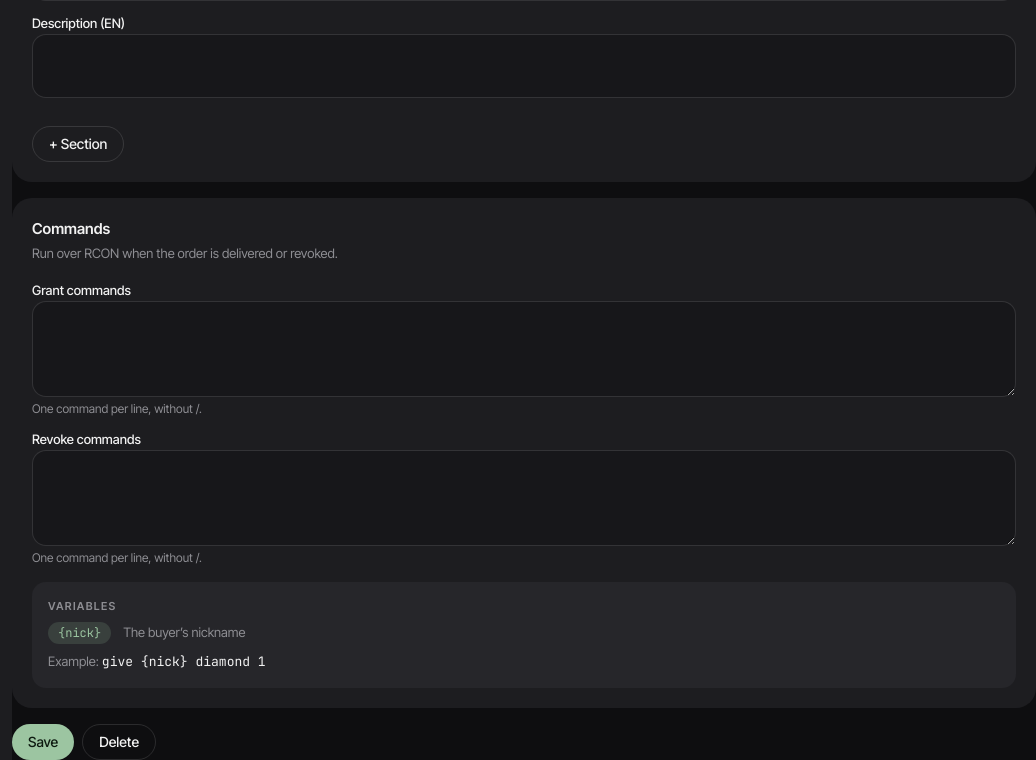
Test: ProductEditor › inserts into revoke when revoke was focused last
(page scrolled)
In the text box labelled "Revoke commands": [524, 498] box [32,450,1016,546], type "lp user  parent remove vip"
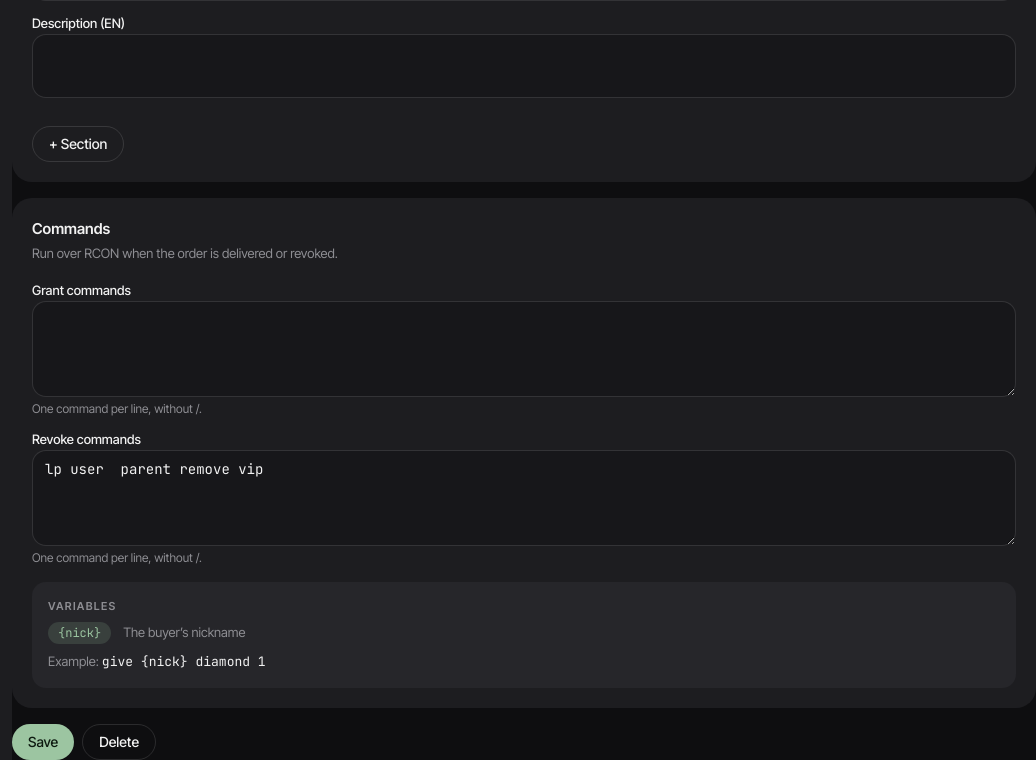
Click the button with aria-label "Insert {nick}": [80, 633] box [48,622,111,644]
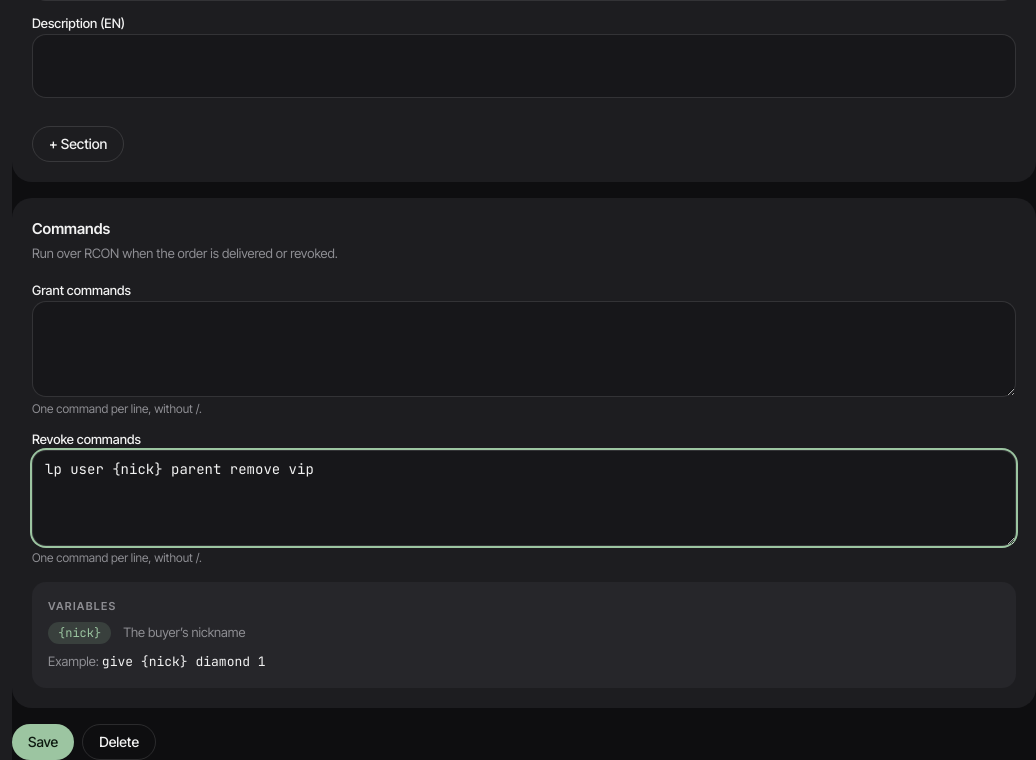
Check: the text box labelled "Revoke commands" holds "lp user {nick} parent remove vip", box [32,450,1016,546]
